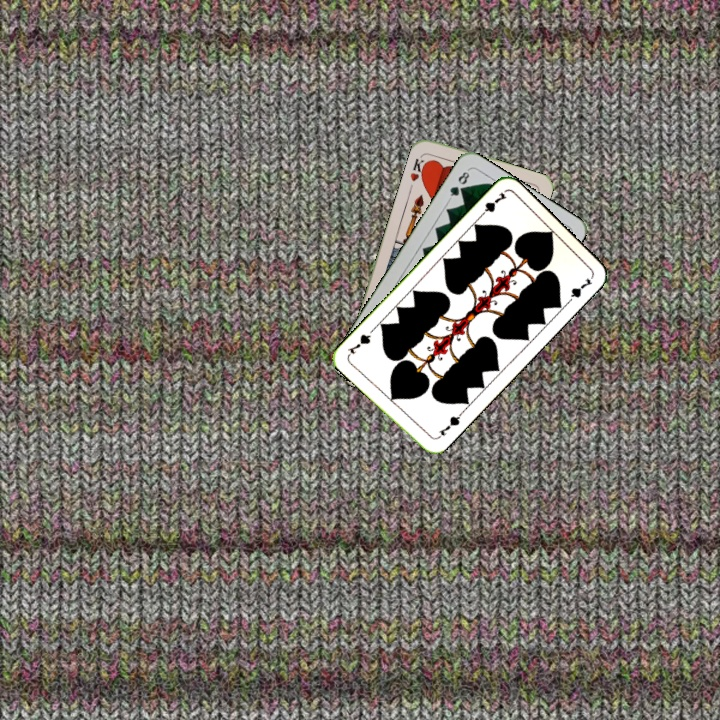G7: (475, 188, 510, 221), (433, 409, 464, 442)
G8: (445, 166, 472, 202)
HK: (406, 151, 430, 184)
